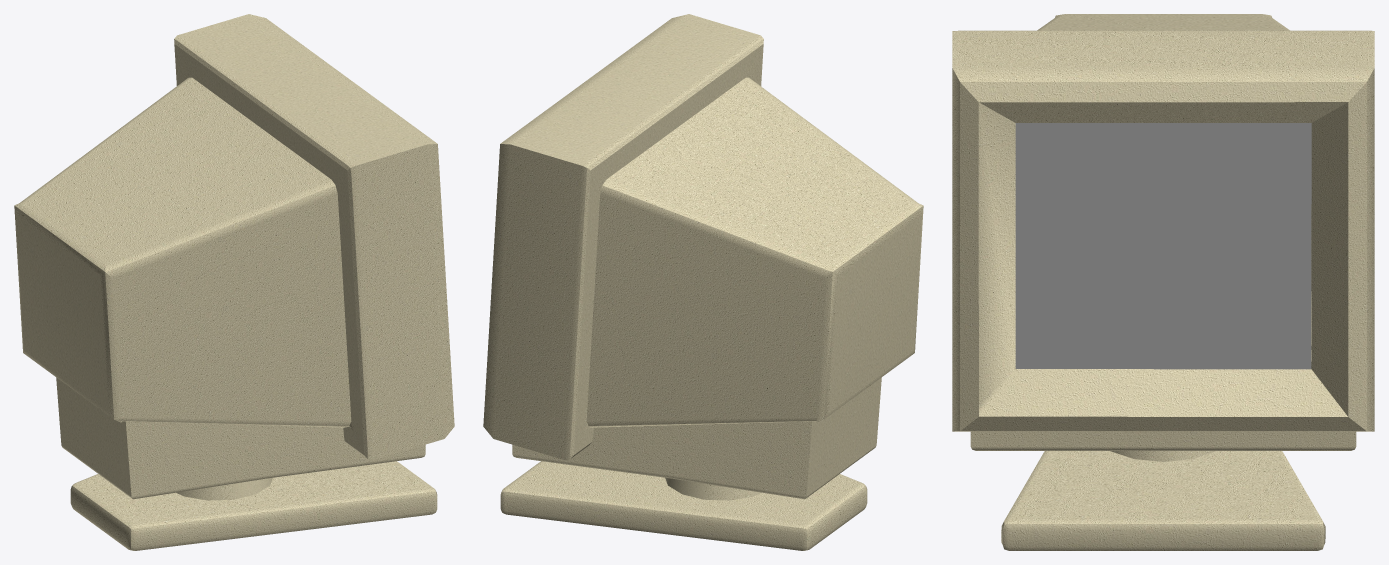
The model's file is computerfinal.fbx.
3 views of the same model, side by side, from view 1: azimuth 30°, elevation 25°; view 2: azimuth 150°, elevation 25°; view 3: azimuth 270°, elevation 25° (orthographic). The views are drawn at different scales.
Visible parts, largest first — view 1: ComputerMonitor; view 2: ComputerMonitor; view 3: ComputerMonitor, ComputerMonitor1.
Boxes of the visible parts, x1,y1,x2,y2 form: ComputerMonitor: (14,14,454,550); ComputerMonitor: (483,14,923,550); ComputerMonitor: (952,14,1374,550); ComputerMonitor1: (1015,123,1311,369).
Bounding box in the file's own units: 17.91 × 21.4 × 17.54.
2 materials, 1 textured.
